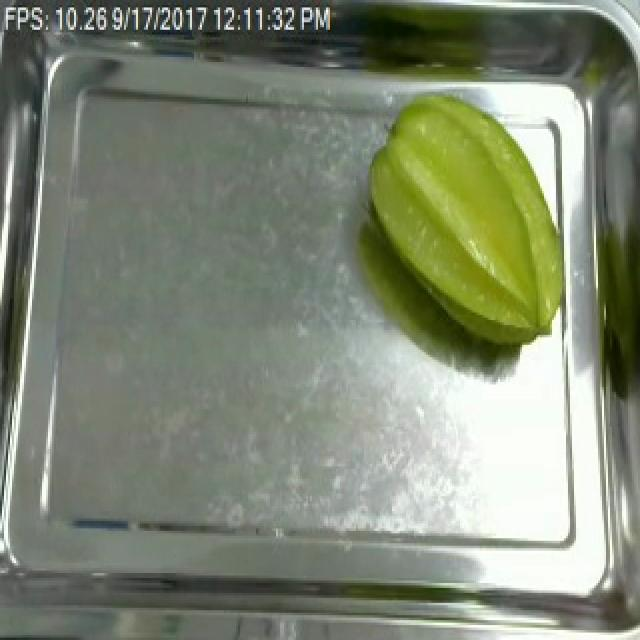fruit: (354, 79, 574, 360)
